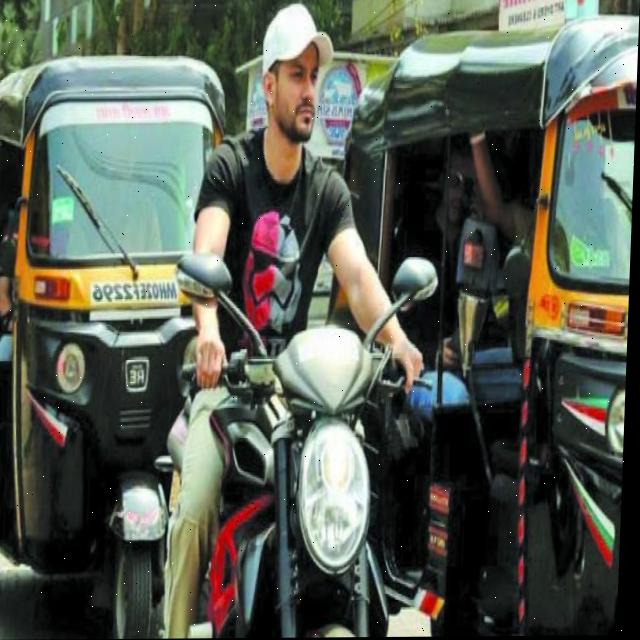without helmet: (257, 0, 333, 149)
